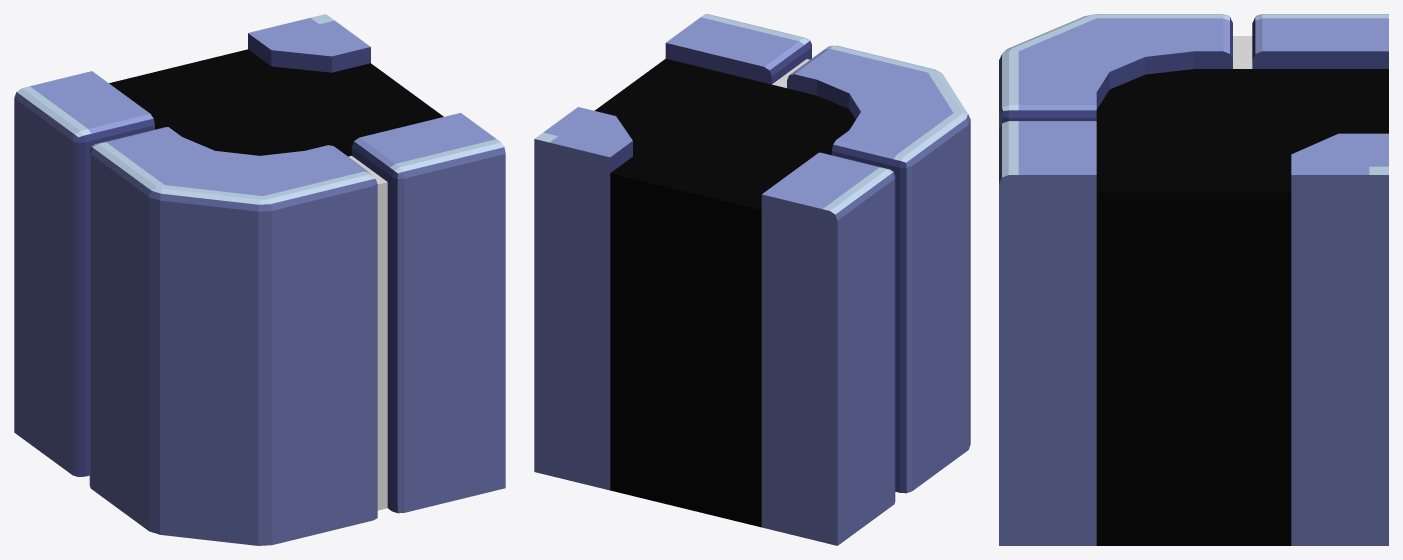
File: UFO_Wall__Corner_Full.fbx
3 renders of one model, left to right at view 1: azimuth 30°, elevation 25°; view 2: azimuth 150°, elevation 25°; view 3: azimuth 270°, elevation 25°, orthographic. The views are drawn at different scales.
Visible parts, largest first — view 1: Cube.008; view 2: Cube.008; view 3: Cube.008.
Part boxes in pixels (x1,y1,x2,y2): Cube.008: (14, 14, 505, 545); Cube.008: (534, 14, 970, 545); Cube.008: (999, 14, 1388, 545).
Bounding box in the file's own units: 2 × 2.1 × 2.
